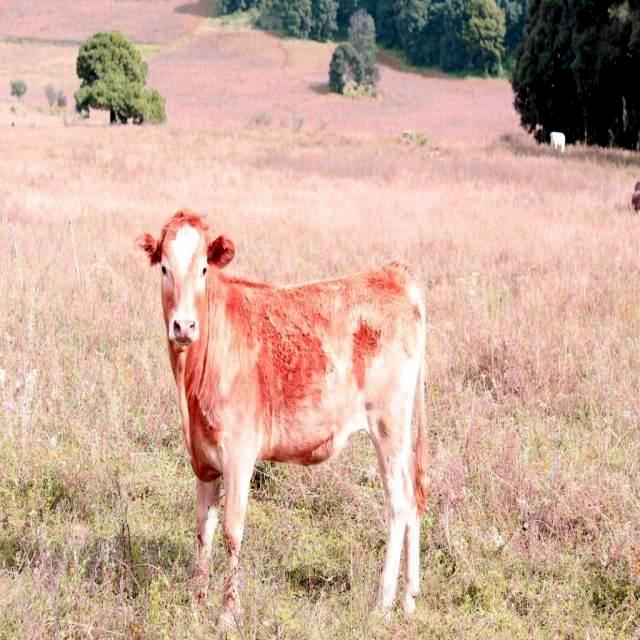COW: (139, 212, 428, 617)
